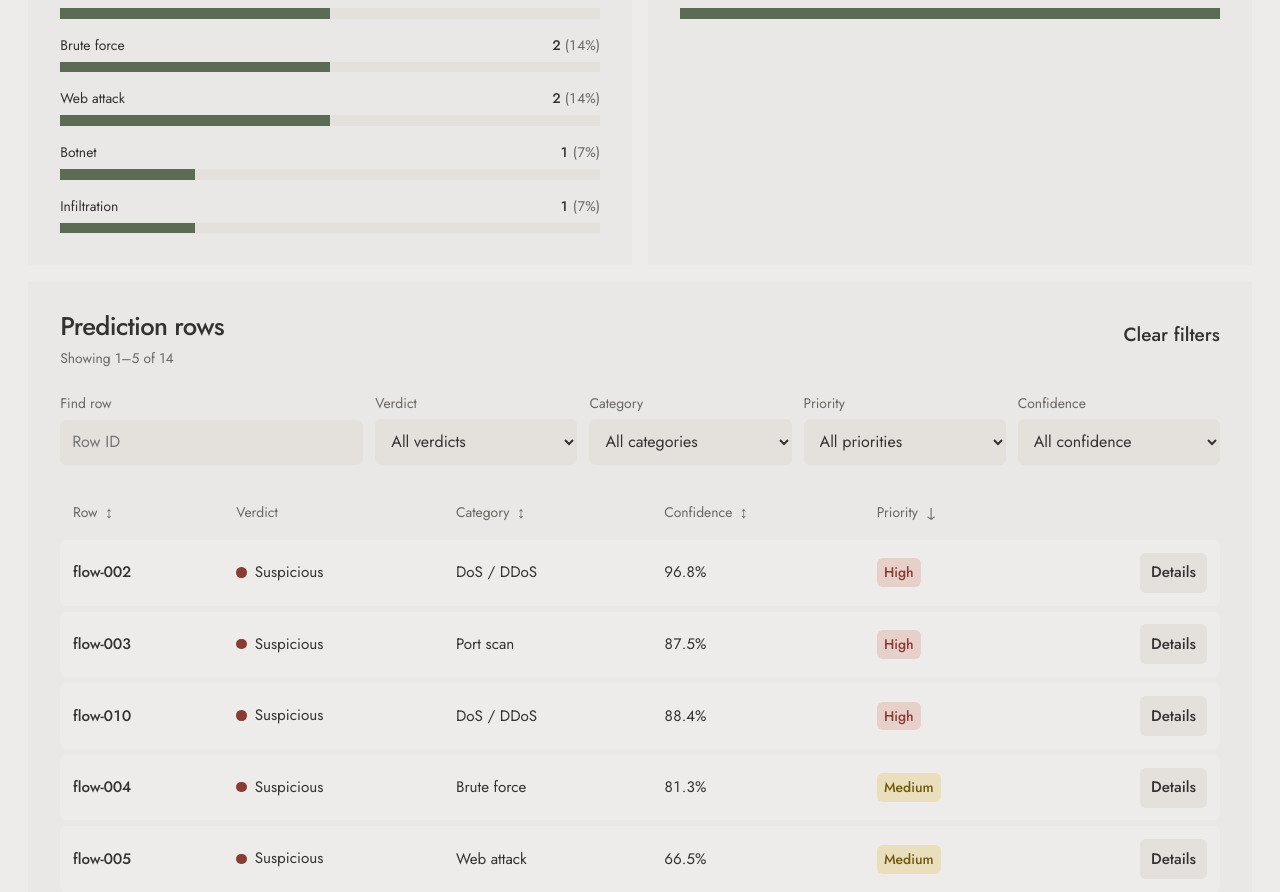
Test: results interactions › searches by row ID and exposes an empty filter state
(page scrolled)
Type "does-not-exist" into the search field labelled "Find row" at (212, 442), box [60, 420, 363, 465]
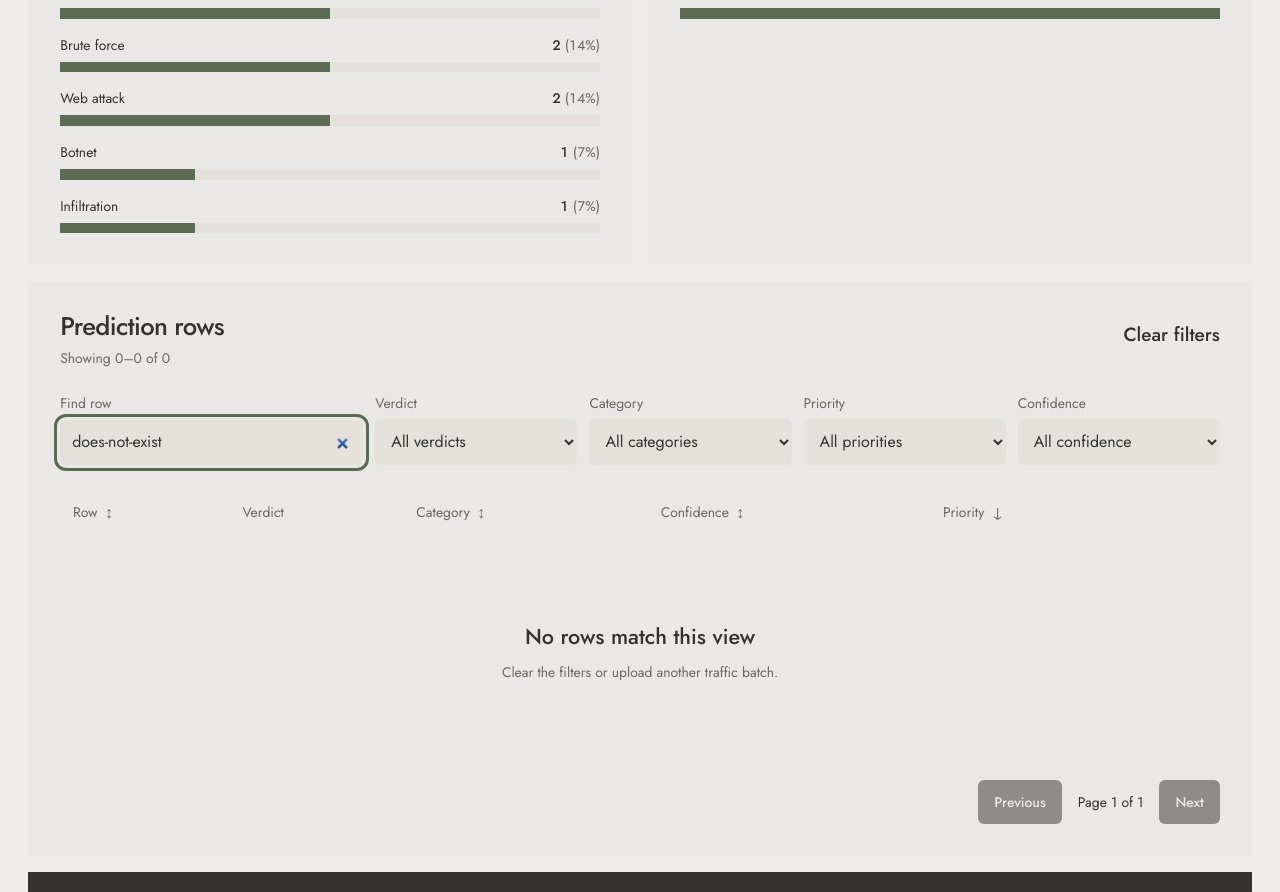
Expected: the heading "No rows match this view" is shown, [525, 621, 755, 652]
Expected: the text "Showing 0–0 of 0" is shown, [60, 348, 170, 368]
